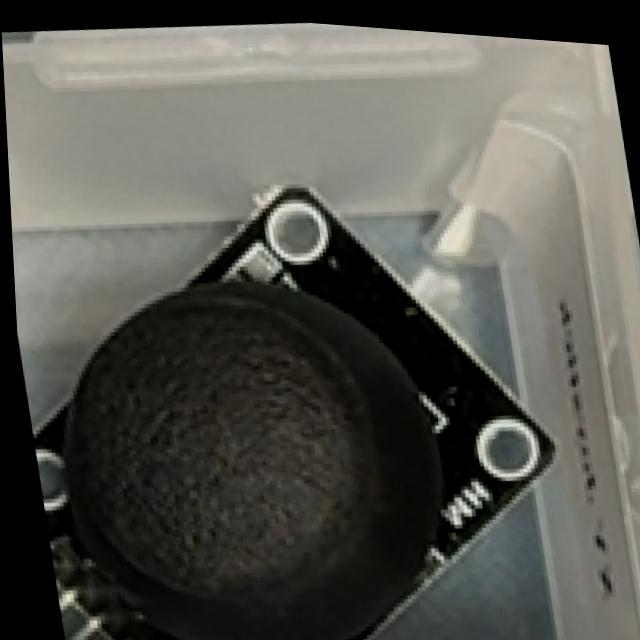XY Joystick: (7, 140, 584, 640)
